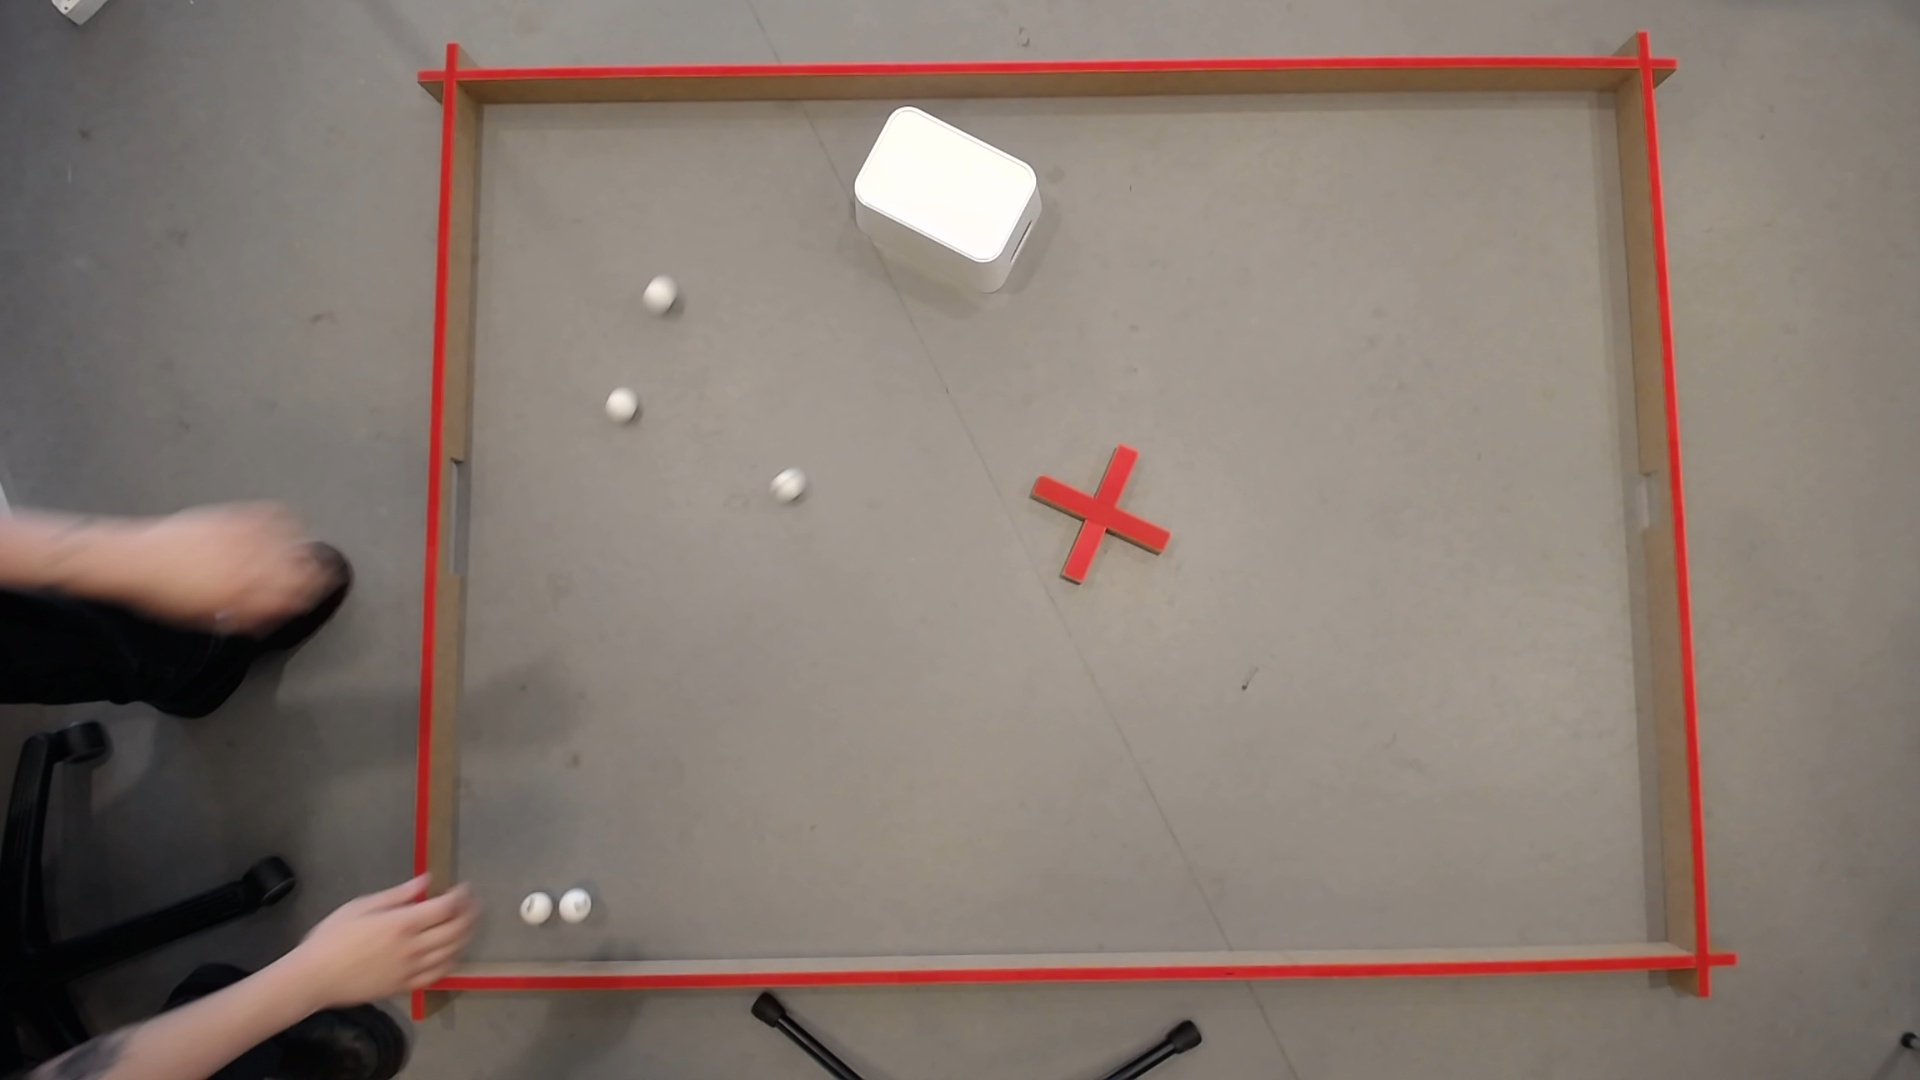balls: (845, 96, 1043, 270), (558, 885, 585, 913), (607, 388, 633, 411), (644, 277, 669, 301)
car: (529, 891, 547, 914)
